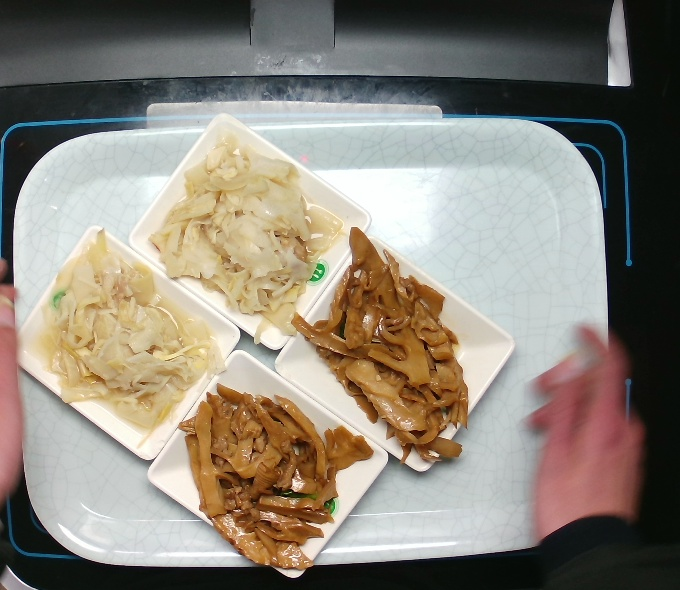wcq-LuSun: (156, 150, 331, 330), (49, 241, 219, 424)
wcq-SunGan: (296, 221, 469, 465), (182, 379, 380, 579)
